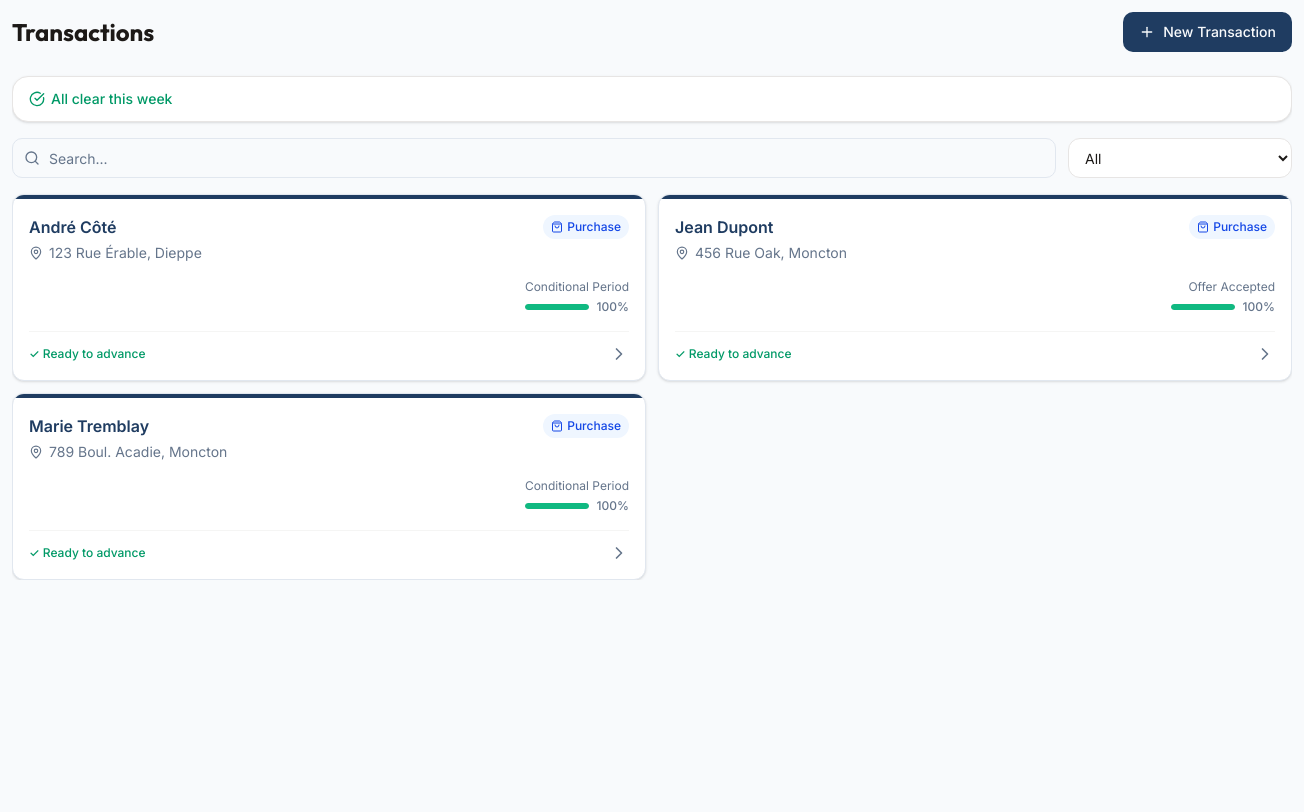
Test: TransactionsPage › SearchBar + Step Filter › filters transactions by client name search (AC1)
Expected: the text "André Côté" is shown, [29,217,116,237]
Type "dupont" into the field with test id "search-input" at (534, 158), box [12,138,1056,178]
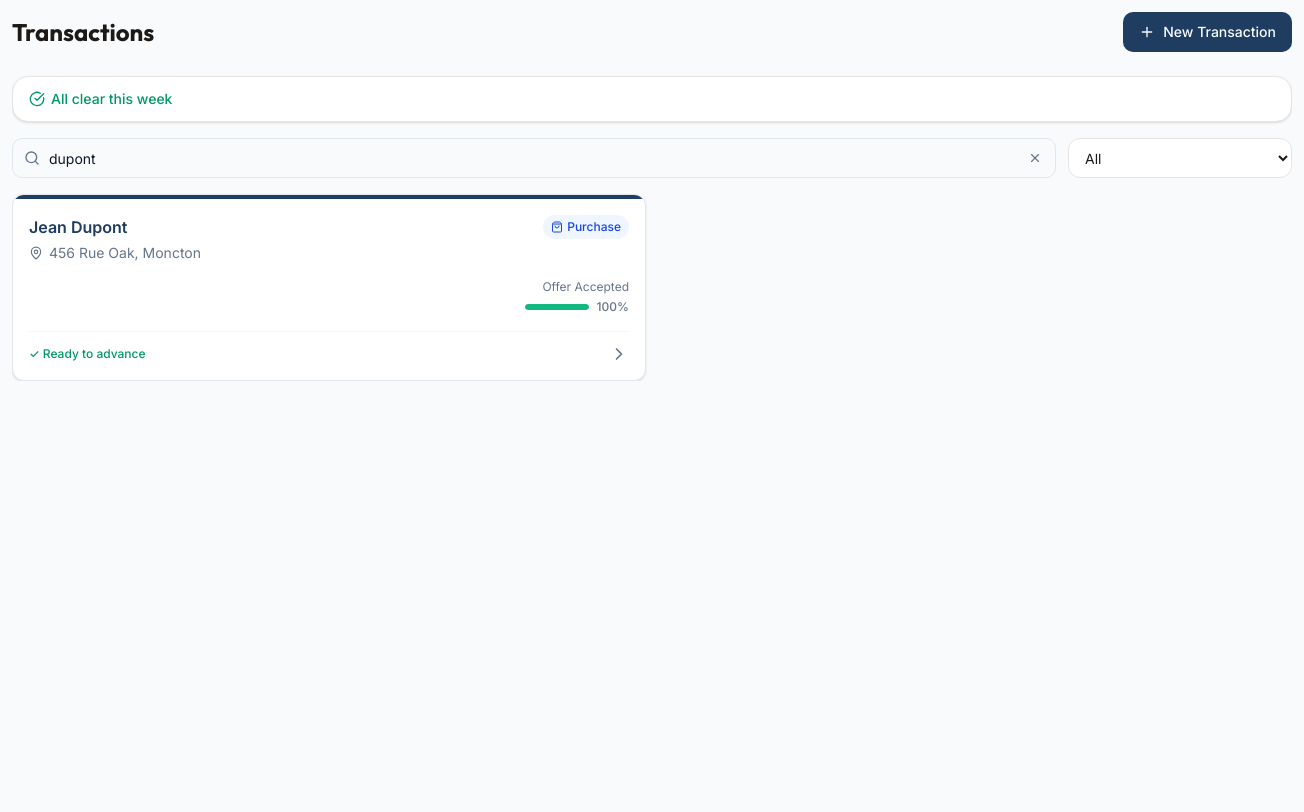
Expected: the text "Jean Dupont" is shown, [29,217,127,237]
Now the link "André Côté" is gone
Now the link "Marie Tremblay" is gone
